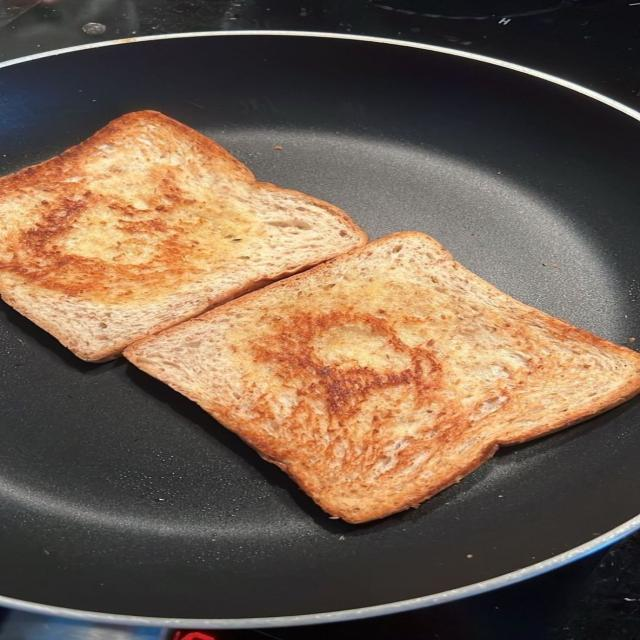toast bread: (125, 232, 639, 523), (0, 112, 366, 361)
